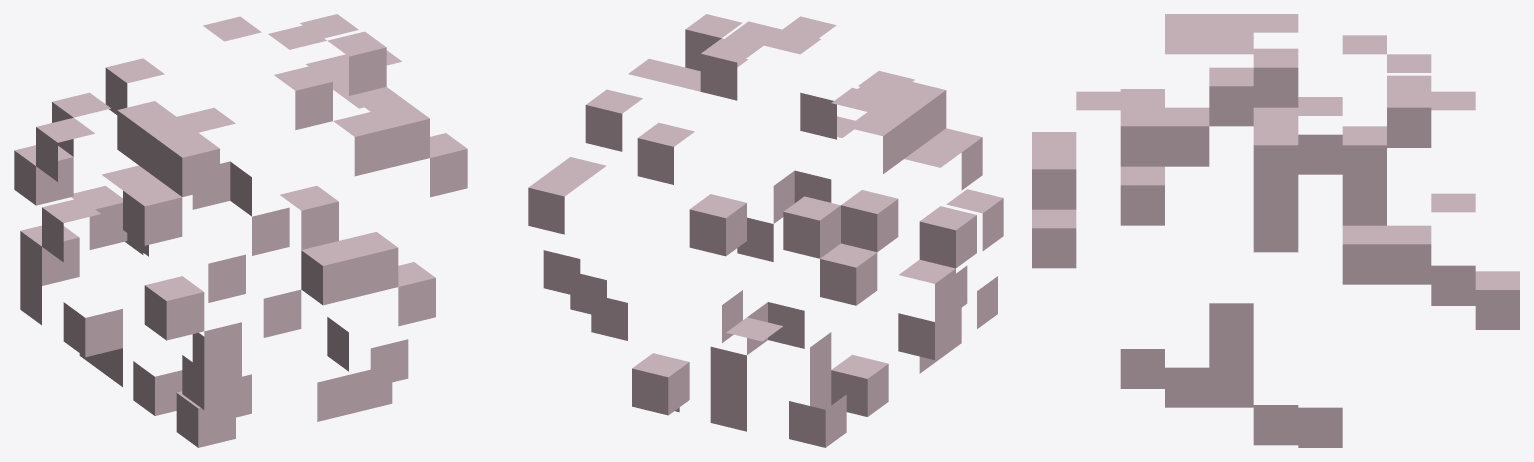
File: tree-cherry-0p9-white-ffe3ec.gltf
3 renders of one model, left to right at view 1: azimuth 30°, elevation 25°; view 2: azimuth 150°, elevation 25°; view 3: azimuth 270°, elevation 25°, orthographic. The views are drawn at different scales.
Visible parts, largest first — view 1: tree-cherry-0p9-white-ffe3ec; view 2: tree-cherry-0p9-white-ffe3ec; view 3: tree-cherry-0p9-white-ffe3ec.
Part boxes in pixels (<box>): tree-cherry-0p9-white-ffe3ec: <box>14,14,467,447</box>; tree-cherry-0p9-white-ffe3ec: <box>528,14,1003,447</box>; tree-cherry-0p9-white-ffe3ec: <box>1032,14,1519,447</box>.
Size of the model in its own units: 11 by 9 by 11.
